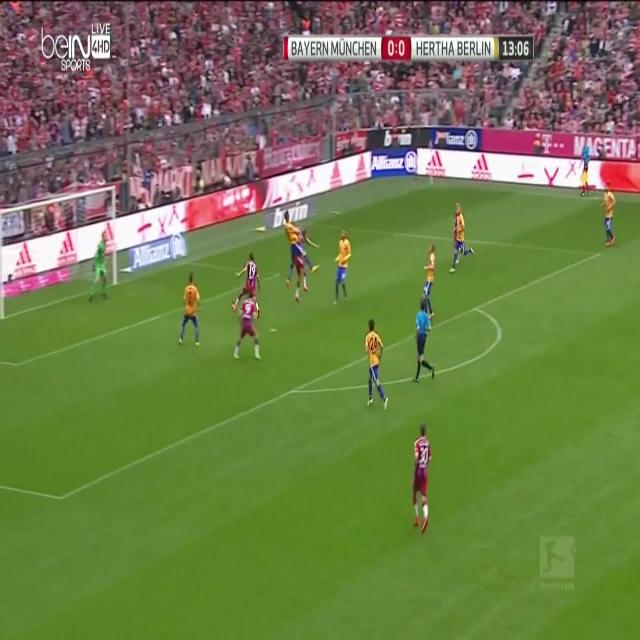Ball: (222, 171, 232, 191)
Goalkeeper: (86, 228, 110, 307)
Player: (282, 212, 320, 300), (410, 420, 434, 536), (364, 315, 390, 411), (233, 292, 261, 366), (176, 272, 202, 351), (231, 248, 261, 316), (448, 199, 474, 277), (332, 230, 352, 309), (599, 180, 618, 253), (422, 240, 439, 310)
Referee: (411, 297, 436, 386), (578, 138, 592, 200)
